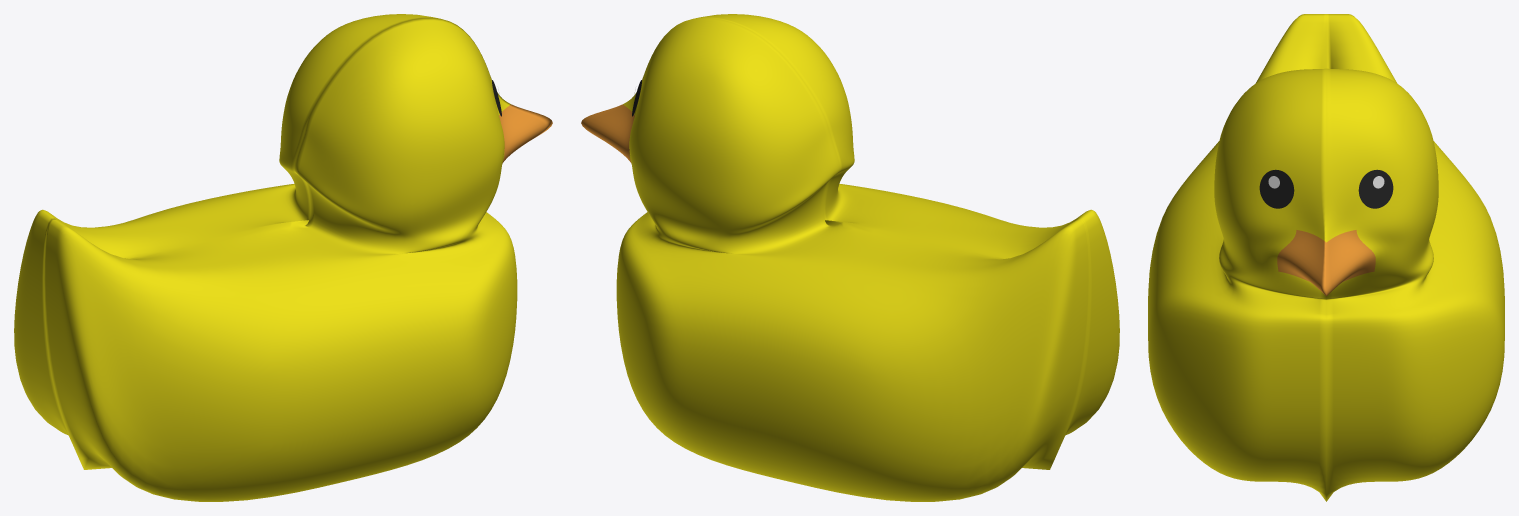
The model's file is duck.glb.
3 renders of one model, left to right at view 1: azimuth 30°, elevation 25°; view 2: azimuth 150°, elevation 25°; view 3: azimuth 270°, elevation 25°, orthographic. The views are drawn at different scales.
Parts seen in each view (by area): view 1: Cube; view 2: Cube; view 3: Cube.
Part boxes in pixels (x1=…): Cube: x1=14, y1=14, x2=552, y2=501; Cube: x1=581, y1=14, x2=1119, y2=501; Cube: x1=1148, y1=14, x2=1504, y2=501.
Bounding box in the file's own units: 5.2 × 3.92 × 3.06.
